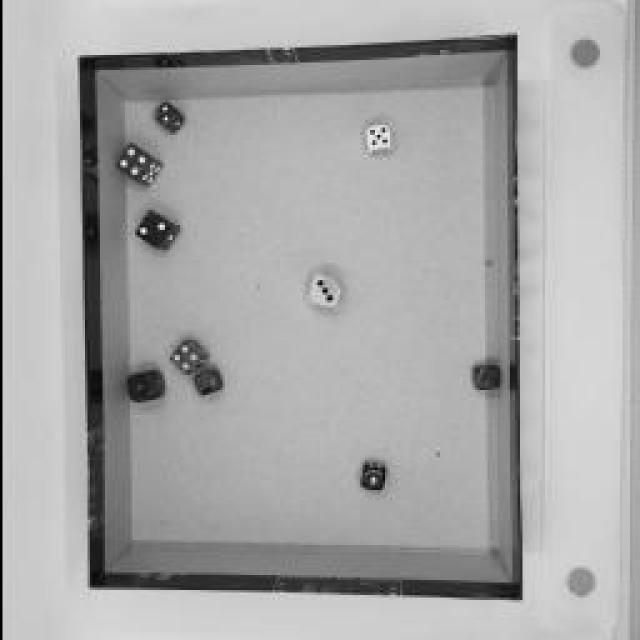dice_1: (121, 368, 164, 408), (355, 458, 387, 492)
dice_2: (134, 209, 176, 249), (150, 101, 185, 134), (472, 361, 500, 391)
dice_3: (306, 271, 339, 309)
dice_4: (114, 140, 158, 185), (170, 339, 195, 376), (191, 371, 219, 394)
dice_5: (364, 121, 391, 154)
